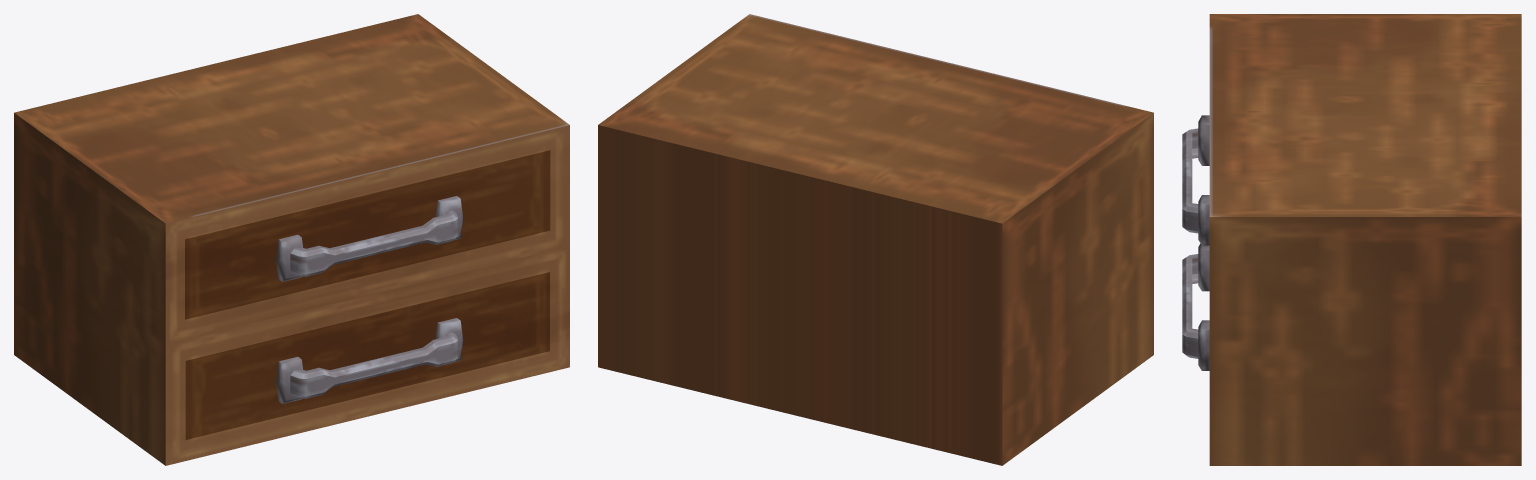
Rendered from workbench_drawers.glb.
3 renders of one model, left to right at view 1: azimuth 30°, elevation 25°; view 2: azimuth 150°, elevation 25°; view 3: azimuth 270°, elevation 25°, orthographic. The views are drawn at different scales.
Parts seen in each view (by area): view 1: Workbench_Drawers; view 2: Workbench_Drawers; view 3: Workbench_Drawers.
Part boxes in pixels (<box>): Workbench_Drawers: <box>14,14,569,465</box>; Workbench_Drawers: <box>598,14,1153,465</box>; Workbench_Drawers: <box>1182,14,1521,465</box>.
Size of the model in its own units: 0.4231 by 0.2423 by 0.299.
Materials: 2 (2 with a texture image).
